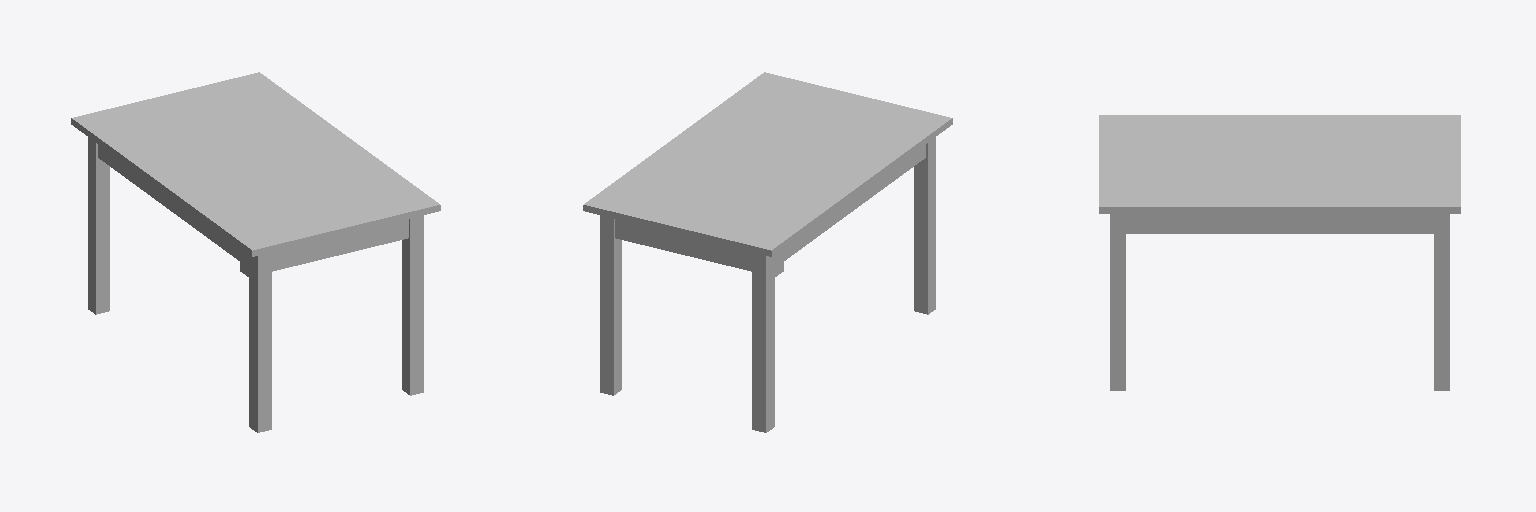
File: desk.obj
3 views of the same model, side by side, from view 1: azimuth 30°, elevation 25°; view 2: azimuth 150°, elevation 25°; view 3: azimuth 270°, elevation 25° (orthographic).
Parts seen in each view (by area): view 1: deskWorn; view 2: deskWorn; view 3: deskWorn.
Part boxes in pixels (left/top/right/bottom): deskWorn: left=71, top=72, right=440, bottom=432; deskWorn: left=583, top=72, right=952, bottom=432; deskWorn: left=1099, top=115, right=1460, bottom=390.
Bounding box in the file's own units: 29.53 × 28.4 × 49.21.